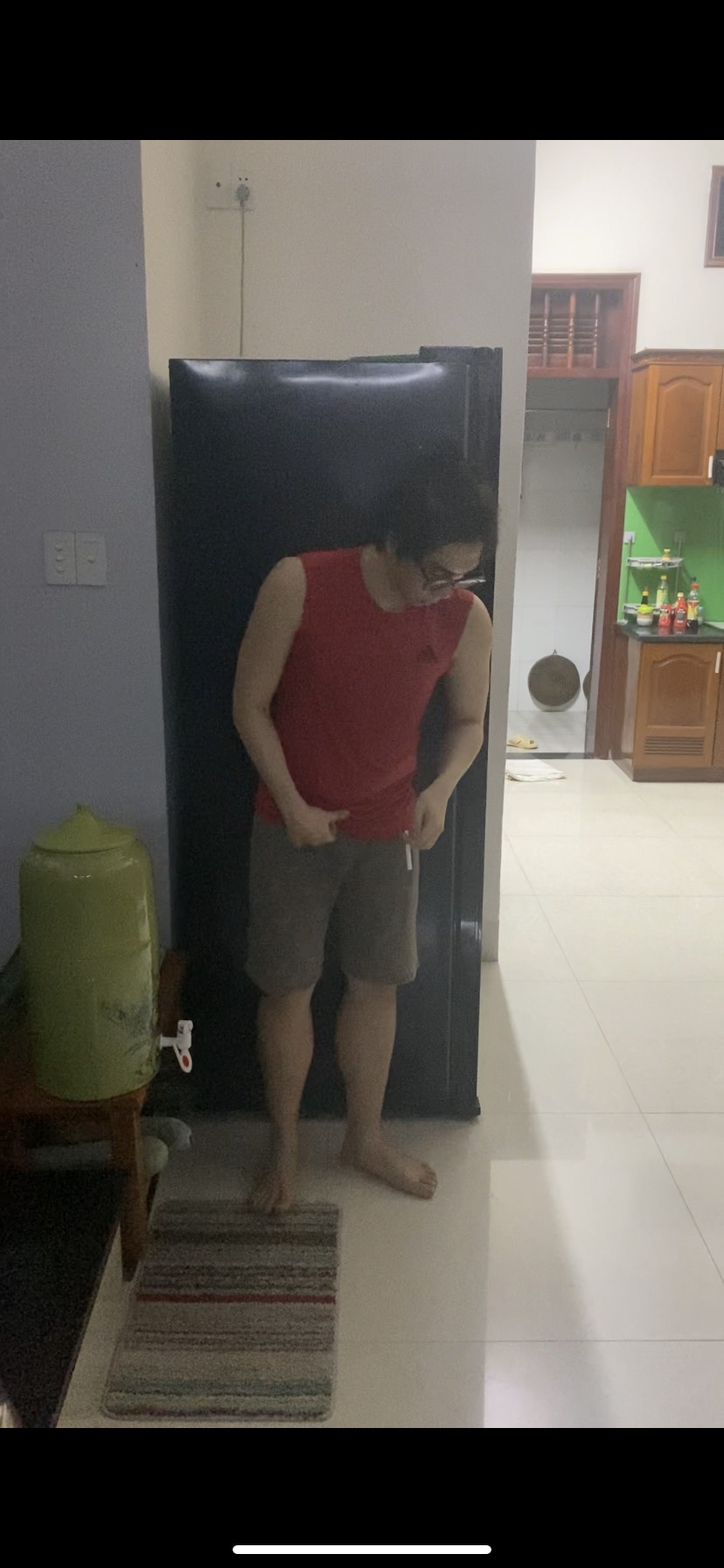cigarette: (400, 843, 417, 875)
person: (235, 520, 488, 1228)
